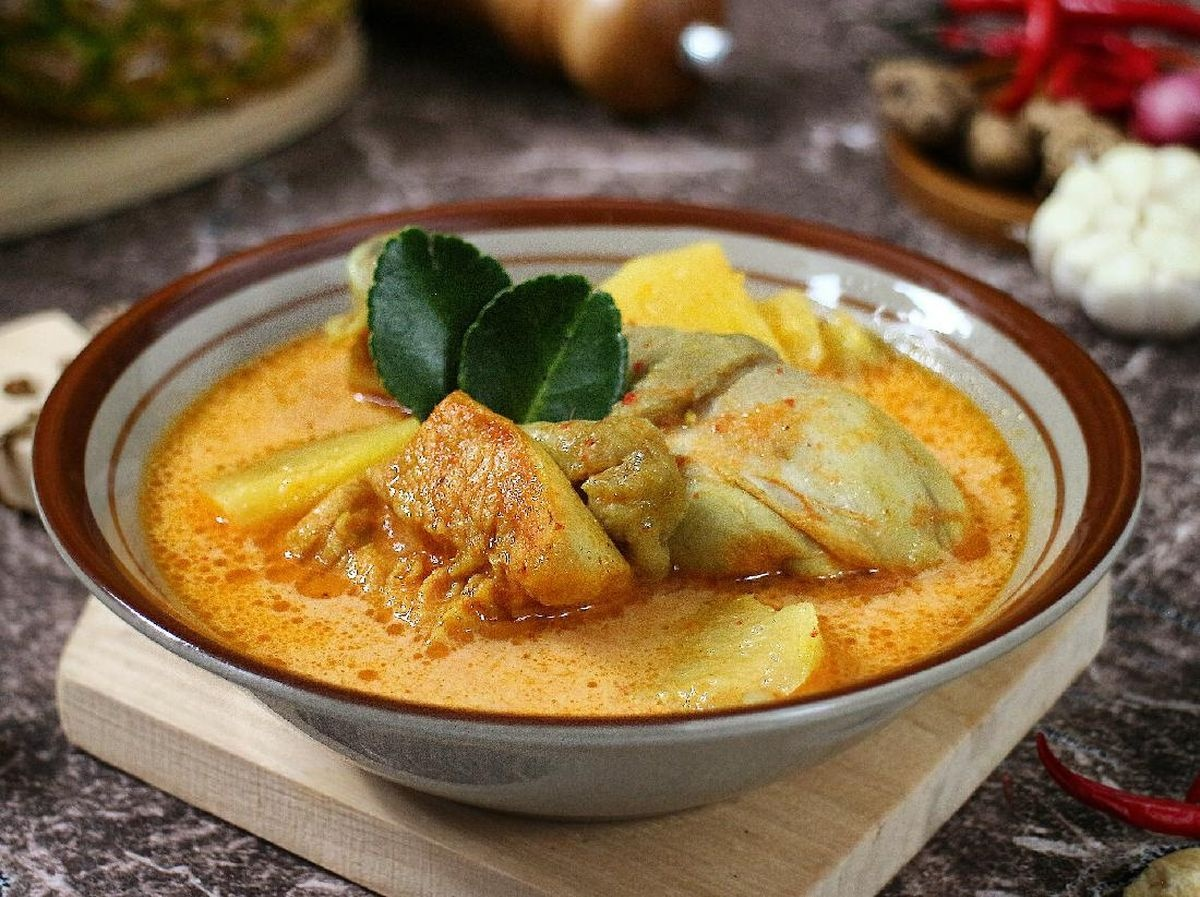gulai_ayam: (22, 194, 1117, 744)
